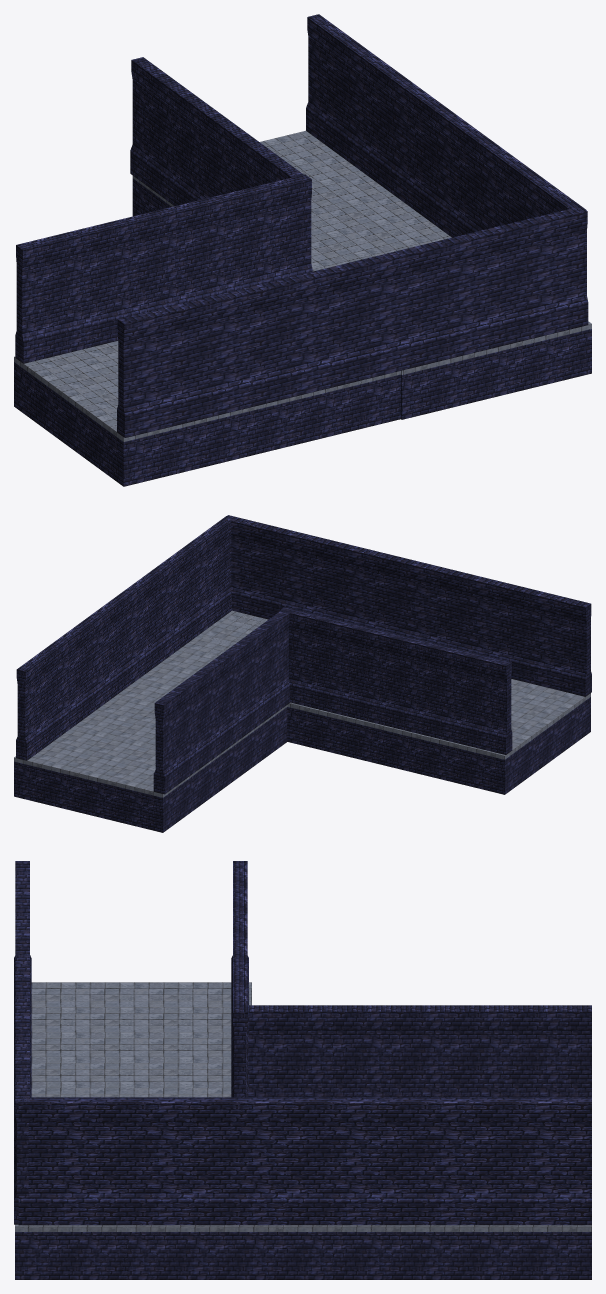
The model's file is corridor-L.glb.
3 views of the same model, one above another, from view 1: azimuth 30°, elevation 25°; view 2: azimuth 150°, elevation 25°; view 3: azimuth 270°, elevation 25° (orthographic). The views are drawn at different scales.
Parts seen in each view (by area): view 1: wall (×4), floor (×3); view 2: wall (×4), floor (×3); view 3: wall (×4), floor (×3).
Part boxes in pixels (box(x1,y1,x2,y2)): wall (×4): box(15, 14, 588, 437); floor (×3): box(14, 130, 591, 486); wall (×4): box(16, 515, 591, 794); floor (×3): box(14, 610, 590, 832); wall (×4): box(14, 861, 591, 1225); floor (×3): box(15, 982, 591, 1279).
Bounding box in the file's own units: 9.84 × 3.28 × 9.84.
16 materials, 16 textured.
